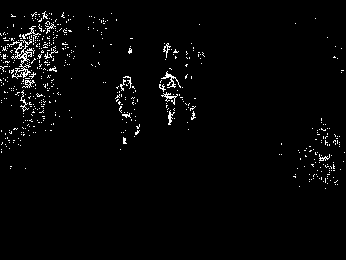person: (109, 71, 141, 145), (158, 63, 181, 127)
